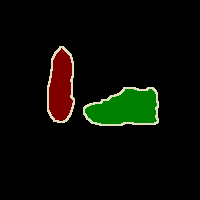shoe: (84, 87, 158, 125), (48, 47, 74, 122)
